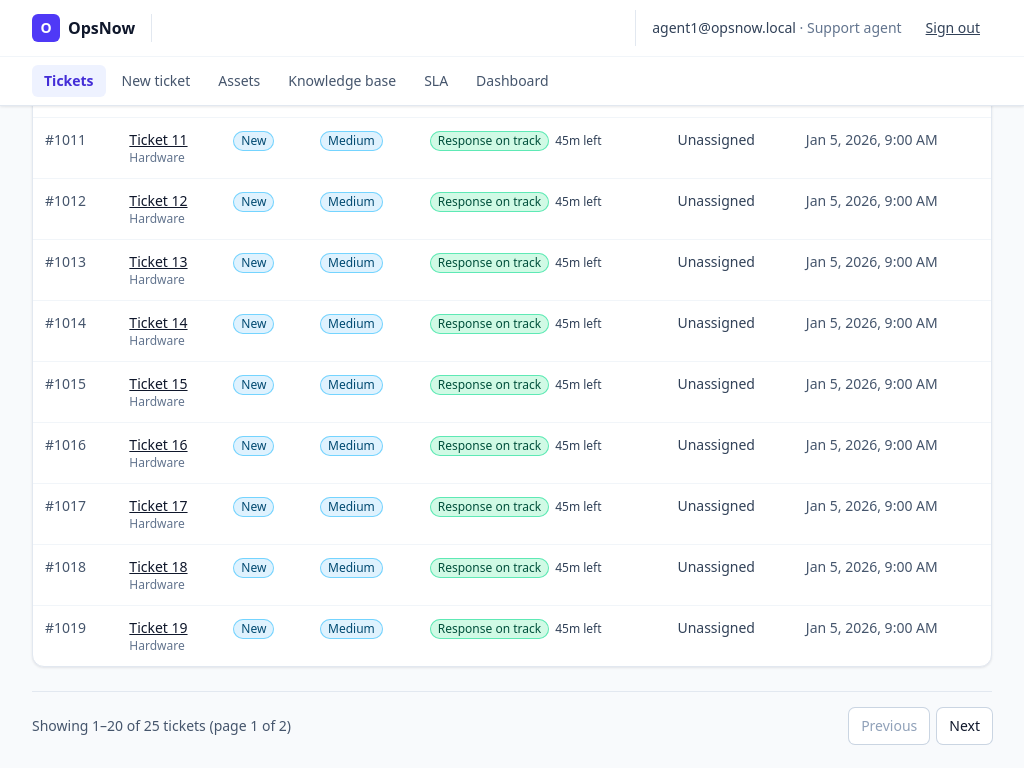
Test: ticket list — pagination › reports the visible range and moves between pages
(page scrolled)
Expected: the text "Showing 1–20 of 25 tickets (page 1 of 2)" is shown, [32, 716, 291, 736]
Expected: the button "Previous" is disabled, [849, 708, 929, 744]
Click the button "Next" at (965, 726), box [937, 708, 992, 744]
(page scrolled)
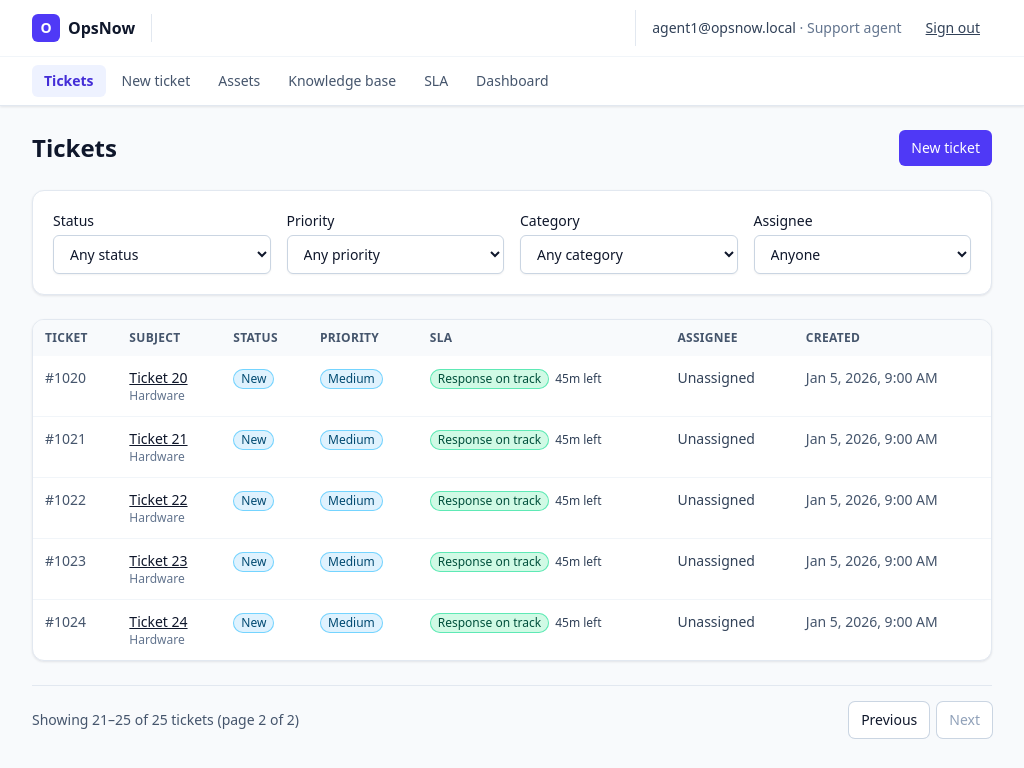
Expected: the text "Showing 21–25 of 25 tickets (page 2 of 2)" is shown, [32, 710, 299, 730]
Expected: the button "Next" is disabled, [937, 702, 992, 738]
Expected: the link "Ticket 24" is shown, [129, 612, 188, 631]
